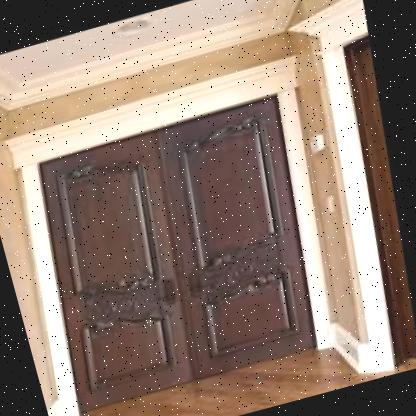door: (4, 85, 346, 416)
